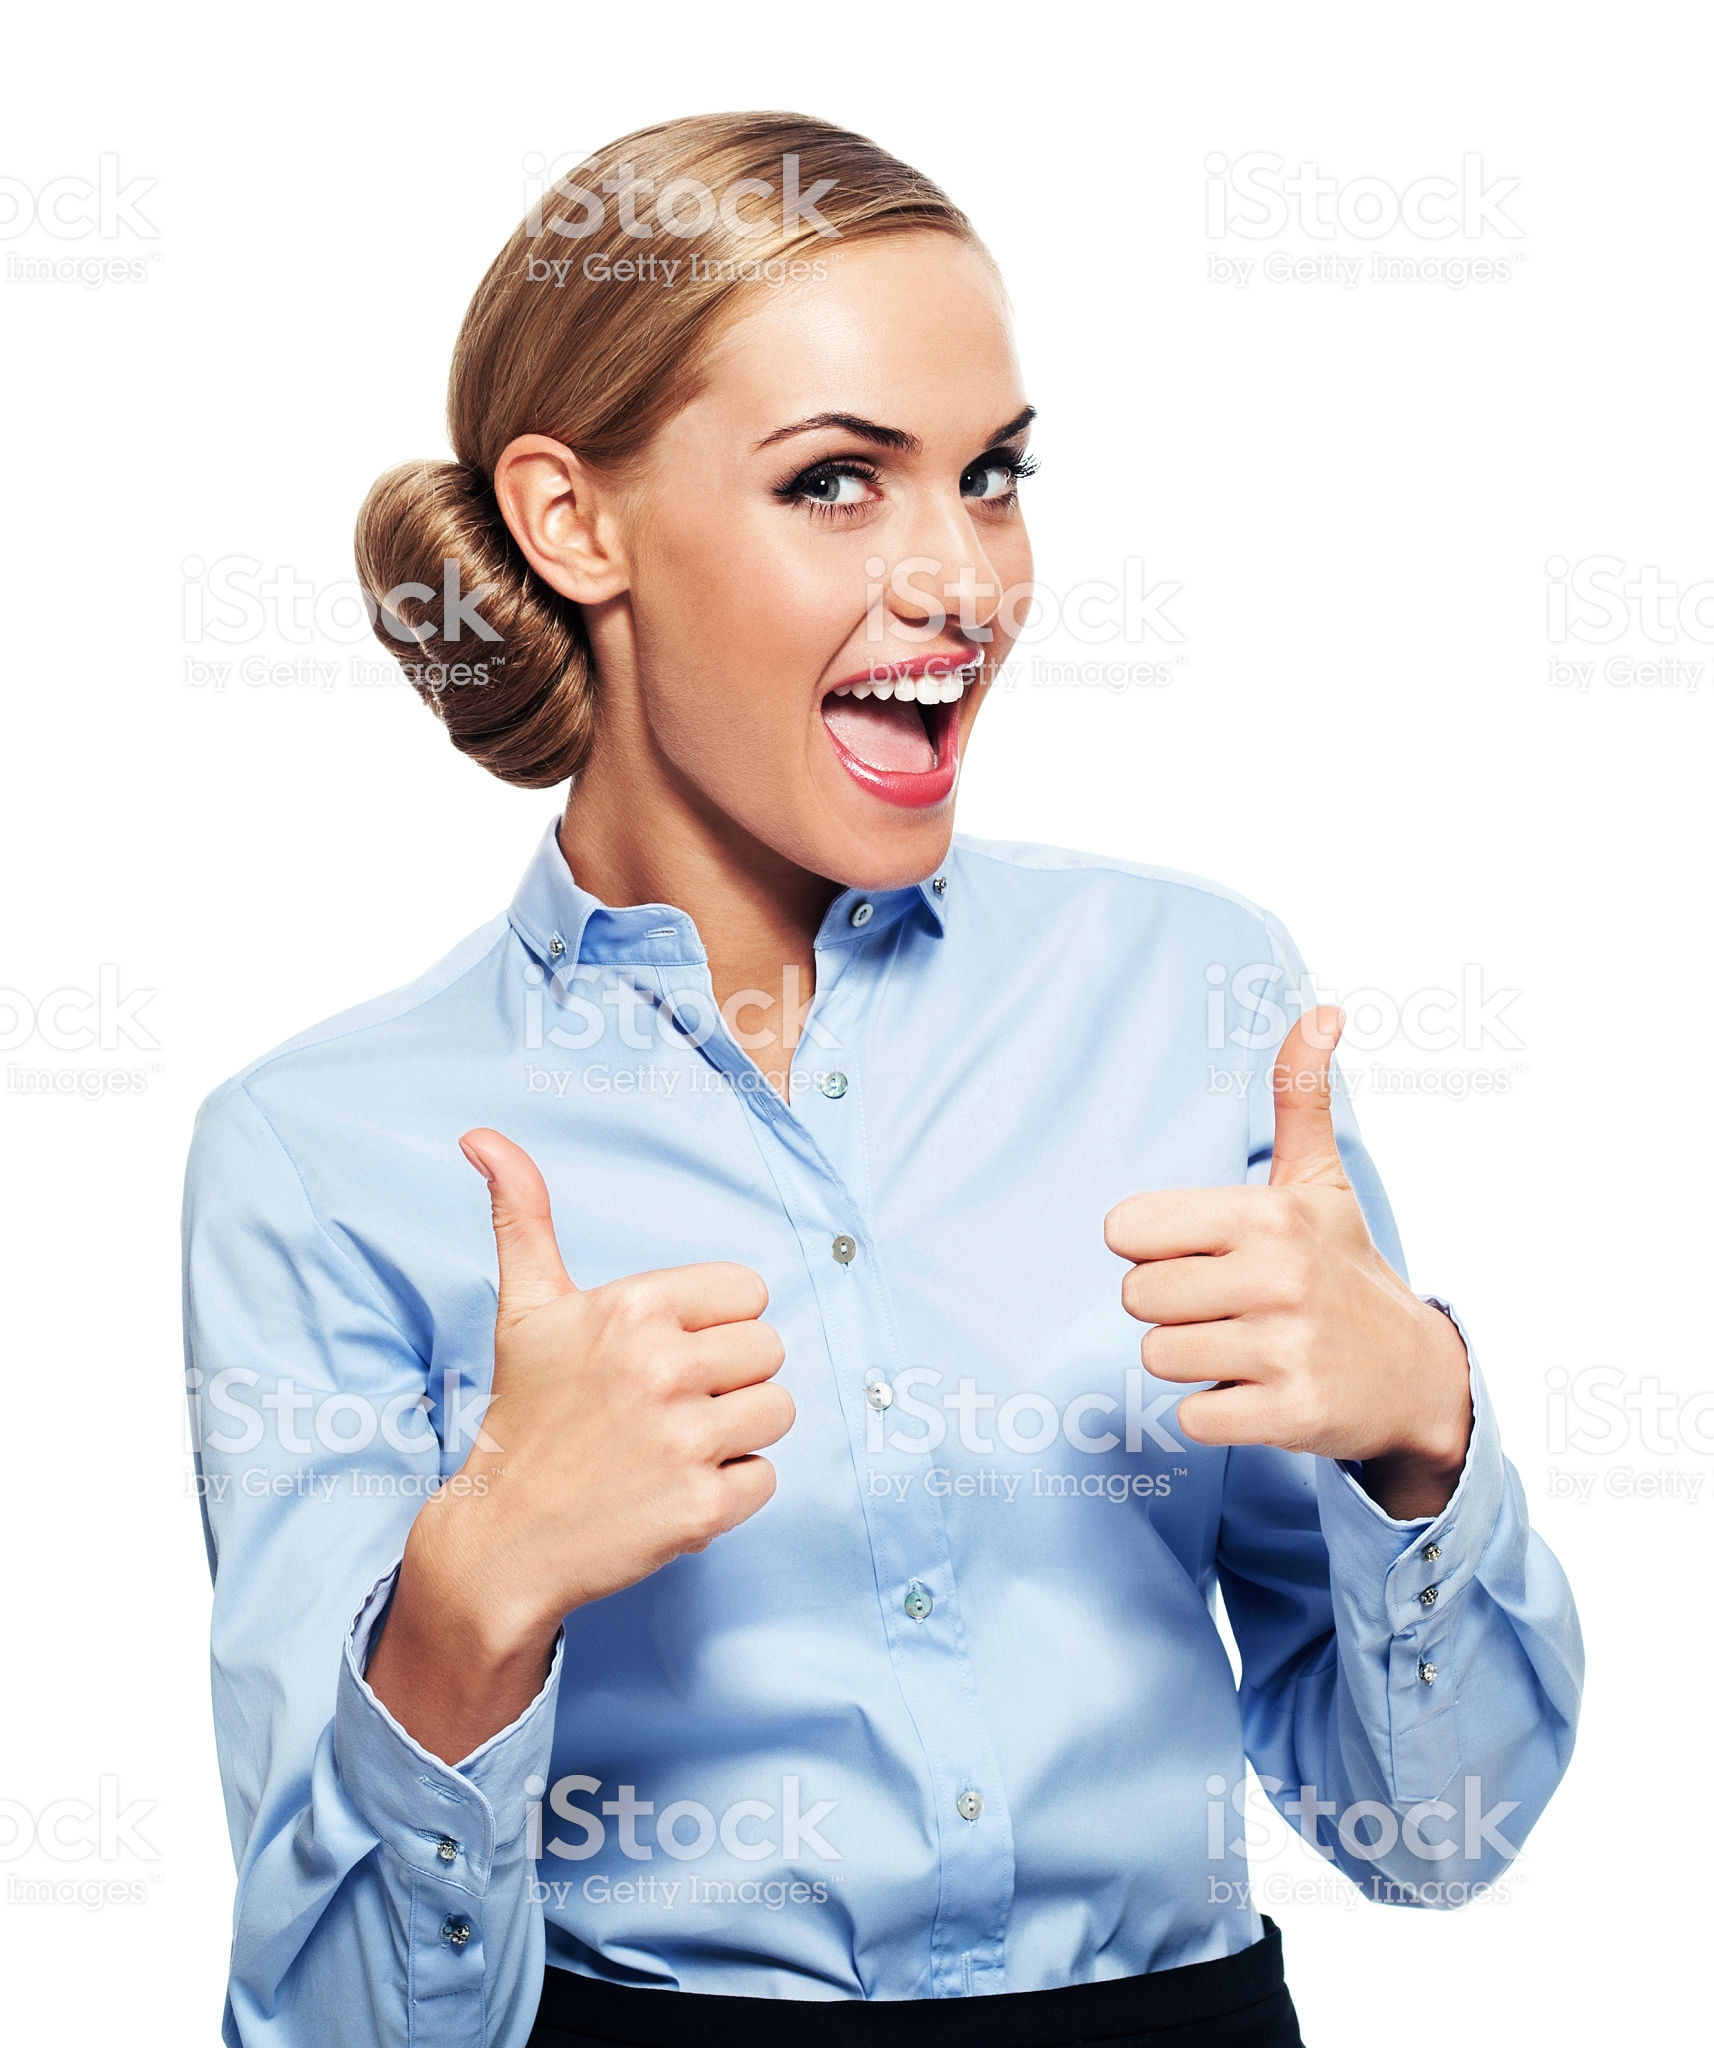thumbsup: (456, 1123, 799, 1609), (1095, 1000, 1403, 1468)
